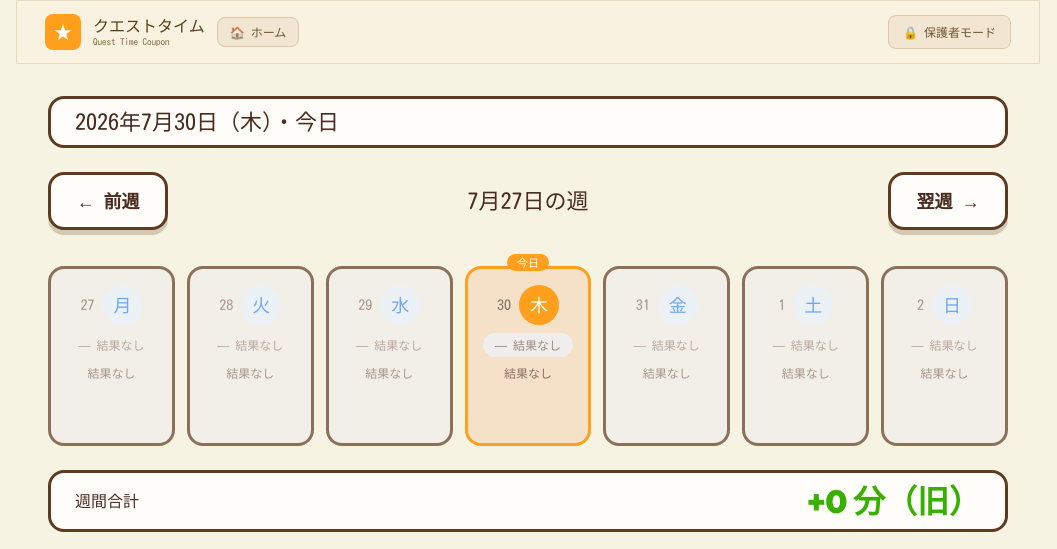
Test: ResultsPage week UI (#17) › 前週ナビで過去週へ移動できる
// 未確認が無いので今週（7/27）から開始 → 前週へ
Step 1. Click the button with test id "results-prev-week" → (108, 201), box [48,172,168,230]
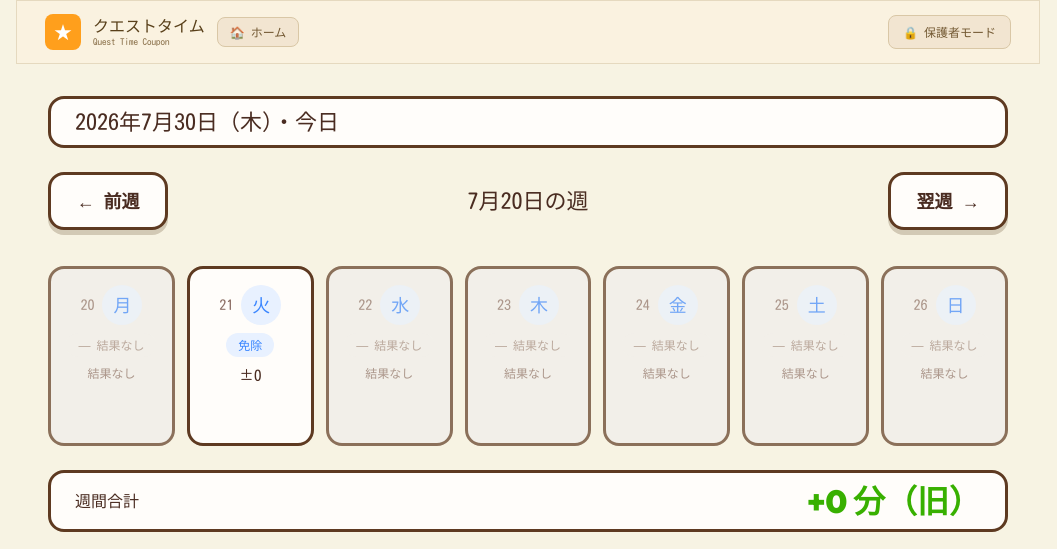
Now the text with test id "results-week-label" reads "7月20日の週", box [468,190,588,212]
Now the text "免除" is shown, box [226,333,274,357]
